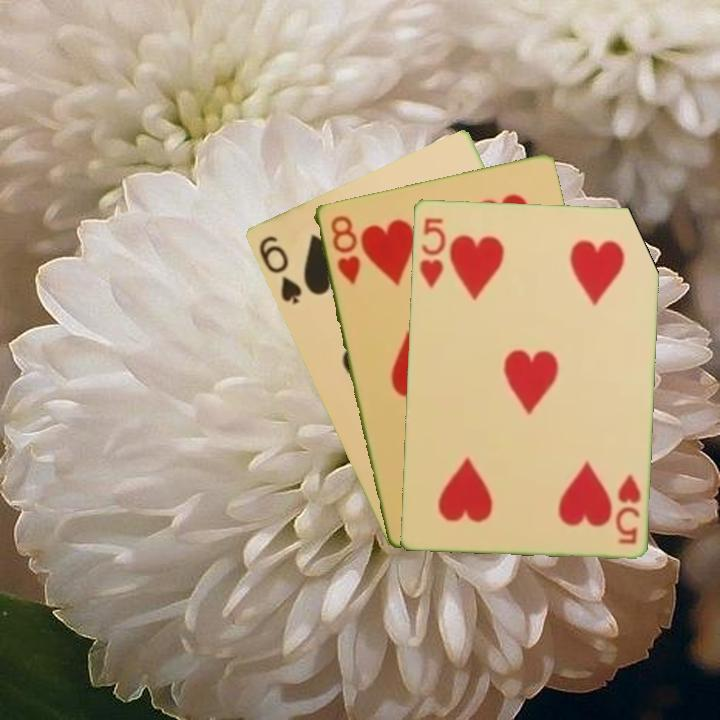5h: (611, 470, 644, 547), (416, 214, 448, 290)
6s: (255, 232, 305, 308)
8h: (326, 211, 363, 287)
